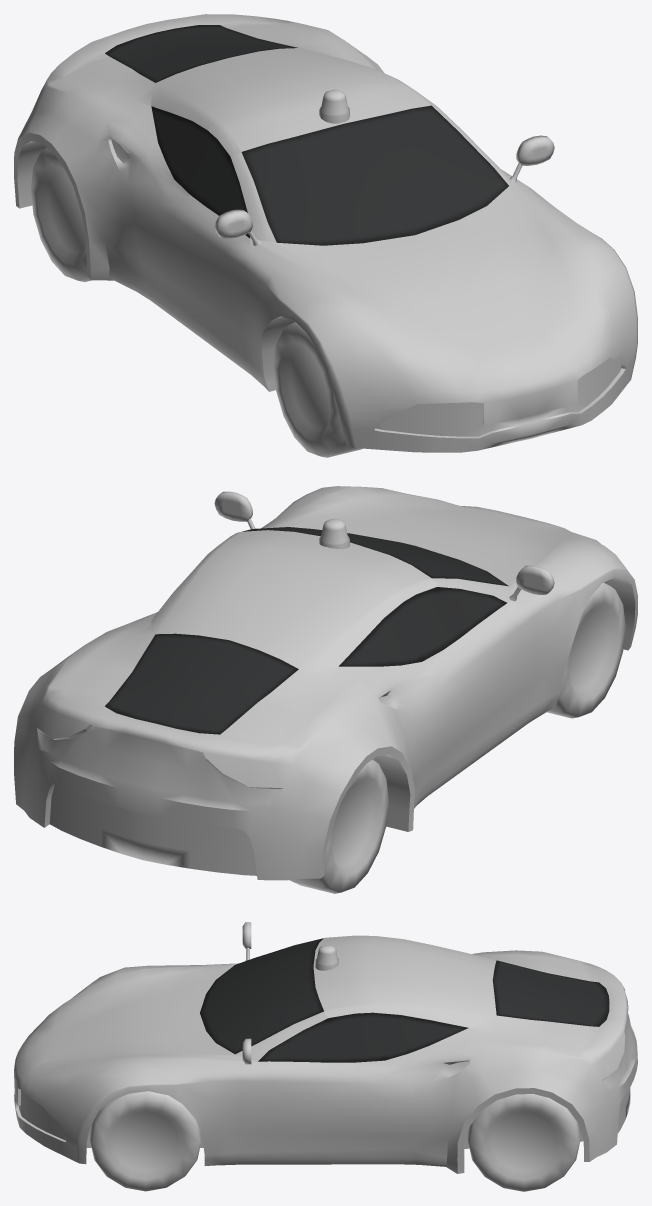
Rendered from roadBurner_police_car.fbx.
3 views of the same model, one above another, from view 1: azimuth 30°, elevation 25°; view 2: azimuth 150°, elevation 25°; view 3: azimuth 270°, elevation 25° (orthographic). The views are drawn at different scales.
Parts seen in each view (by area): view 1: body, mirror1, w1, w4; view 2: body, mirror1, w4, w1; view 3: body, mirror1, w2, w3.
Boxes of the visible parts, x1,y1,x2,y2 form: body: (14,14,637,452); mirror1: (105,25,508,245); w1: (273,322,362,457); w4: (31,148,91,281); body: (14,486,637,880); mirror1: (105,527,508,734); w4: (289,759,388,893); w1: (547,582,625,718); body: (14,922,637,1173); mirror1: (200,938,609,1062); w2: (90,1091,201,1191); w3: (467,1094,580,1191).
Bounding box in the file's own units: 14.72 × 10.17 × 29.95.
